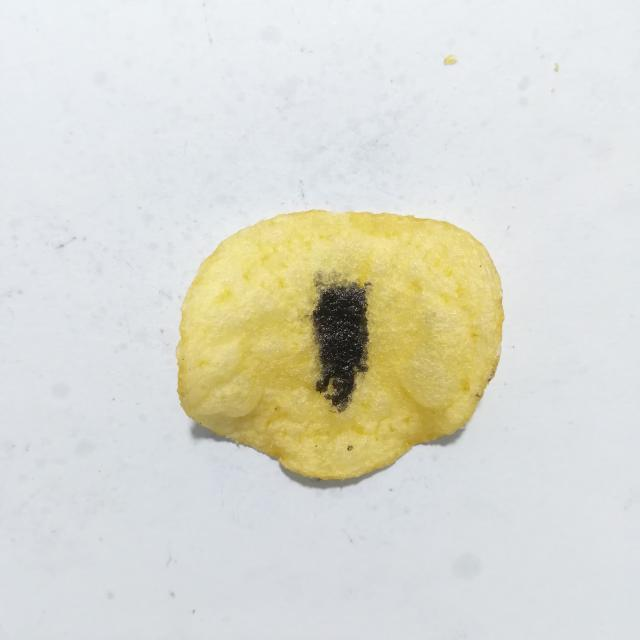chip: (176, 210, 504, 479)
damaged: (312, 283, 370, 411)
semi-damaged: (309, 270, 372, 382)
